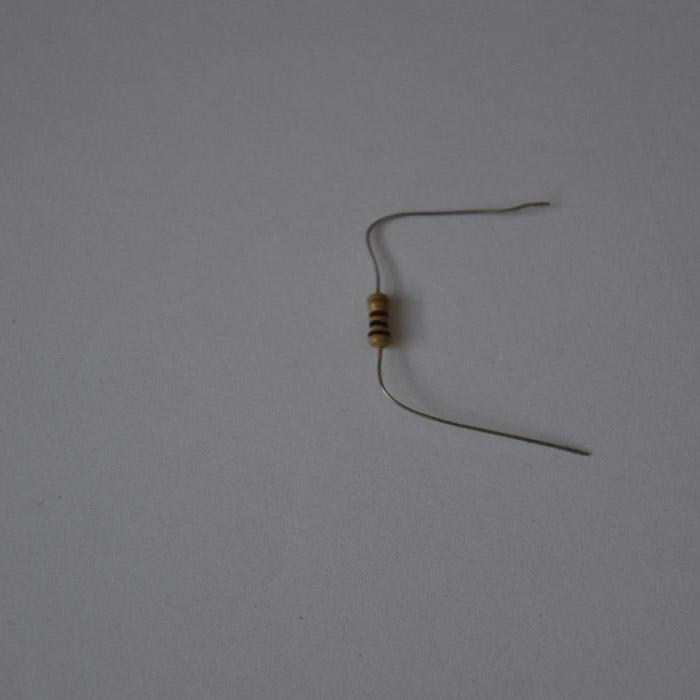resistor: (366, 292, 392, 348)
